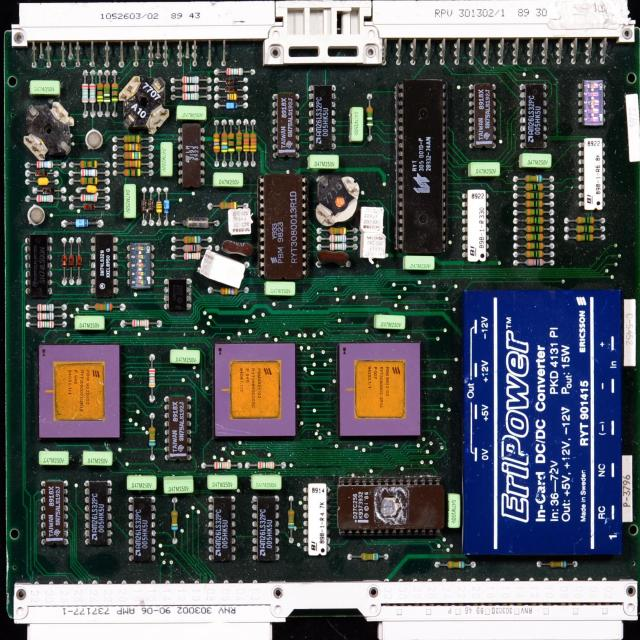Capacitor: (24, 177, 60, 186), (73, 186, 111, 194)
Connector: (462, 188, 490, 265), (580, 136, 605, 212)
IC: (394, 82, 450, 255), (337, 476, 447, 536), (256, 173, 306, 281), (515, 78, 552, 159), (86, 232, 123, 296), (469, 81, 501, 148), (22, 232, 52, 302), (41, 479, 70, 547), (83, 479, 111, 547), (272, 94, 302, 157), (164, 395, 192, 462), (309, 84, 335, 152), (128, 497, 155, 562), (253, 496, 279, 562), (209, 497, 235, 561), (161, 277, 190, 310)
Resistor Network: (84, 301, 126, 312), (316, 225, 360, 235), (24, 160, 67, 170), (79, 74, 89, 116), (208, 286, 250, 296), (315, 243, 358, 252), (564, 233, 606, 242), (316, 234, 358, 243), (514, 199, 555, 208), (171, 85, 211, 94), (114, 135, 154, 144), (70, 161, 110, 170), (367, 91, 374, 142), (514, 182, 553, 191), (149, 412, 156, 462), (172, 498, 179, 548), (243, 119, 250, 168), (104, 72, 111, 120), (235, 120, 242, 168), (513, 234, 555, 242), (513, 242, 555, 250), (149, 355, 156, 402), (171, 76, 212, 84), (115, 152, 156, 160), (514, 192, 555, 200), (207, 201, 248, 209), (564, 216, 605, 224), (25, 304, 66, 312), (121, 320, 162, 328), (26, 320, 67, 328), (202, 461, 242, 469), (114, 169, 154, 177), (27, 195, 67, 203), (514, 250, 554, 258), (514, 174, 553, 182), (66, 178, 110, 185), (172, 236, 210, 244), (251, 118, 257, 168), (115, 160, 152, 168), (289, 495, 295, 544), (90, 72, 97, 114), (171, 94, 213, 101), (68, 194, 110, 201), (564, 225, 606, 232), (216, 101, 248, 110), (69, 170, 110, 177), (514, 217, 555, 224), (112, 72, 118, 119), (214, 119, 220, 166), (214, 68, 254, 75), (114, 144, 153, 151), (514, 210, 556, 216), (172, 244, 214, 250), (26, 313, 68, 319), (222, 119, 227, 169), (229, 121, 234, 169), (514, 226, 554, 232), (172, 252, 212, 258), (514, 260, 554, 266), (246, 462, 285, 468), (163, 187, 169, 226), (349, 553, 387, 559), (156, 188, 162, 225), (216, 94, 248, 100), (438, 562, 476, 567), (99, 73, 103, 120)
